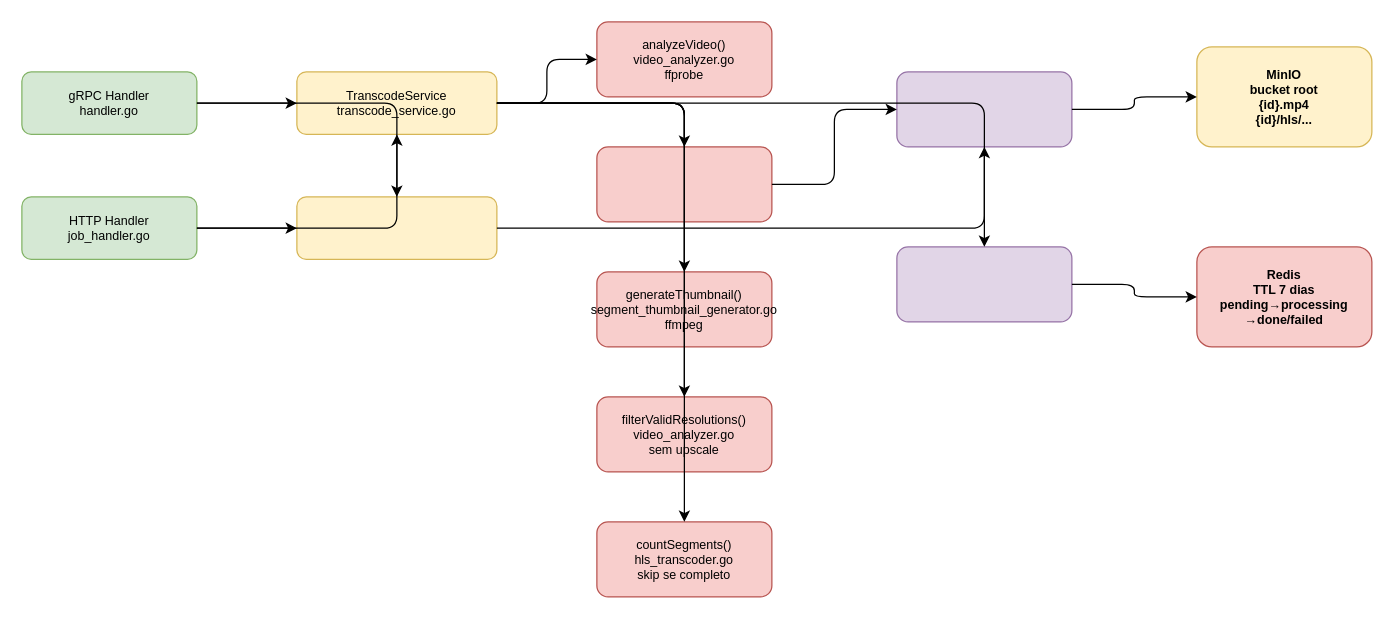
The diagram is 1394 pixels wide and 619 high, and some of its shapes have lost their labels. The box of each missing label's shape, as (x1, y1, x2, y2) in pixels:
InspectService inspect_service.go: (296, 196, 497, 259)
JobRepository redis/job_repository.go transcode:job:{id}: (896, 246, 1072, 322)
MinIO Client minio/client.go S3 API: (896, 71, 1072, 147)
transcodeToHLS() hls_transcoder.go ffmpeg segments 2s: (596, 146, 772, 222)
